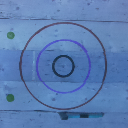Axe Tip: (58, 111, 69, 113)
